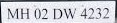character: (63, 7, 76, 19), (6, 7, 18, 19), (19, 7, 29, 20), (52, 7, 62, 20), (40, 7, 48, 20), (33, 7, 41, 19), (79, 7, 87, 19), (94, 6, 101, 19), (102, 6, 109, 19), (87, 7, 94, 19)
